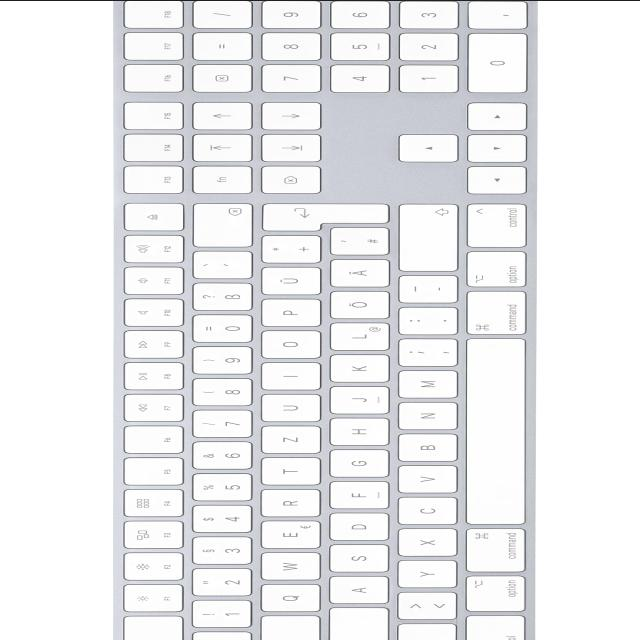0: (190, 314, 253, 342)
1: (189, 600, 251, 628)
2: (190, 567, 252, 596)
3: (190, 536, 252, 565)
4: (189, 504, 251, 532)
5: (190, 473, 252, 501)
6: (190, 441, 252, 469)
7: (190, 410, 252, 438)
8: (190, 378, 253, 406)
9: (189, 345, 253, 374)
a: (326, 576, 388, 604)
accent: (189, 251, 251, 279)
ae: (327, 259, 389, 287)
alt-left: (465, 574, 528, 612)
altgr-right: (463, 249, 527, 288)
b: (395, 433, 457, 461)
c: (394, 496, 457, 525)
caret: (189, 628, 250, 640)
comma: (396, 338, 458, 366)
d: (327, 513, 389, 541)
del: (190, 203, 253, 248)
e: (258, 520, 321, 548)
enter: (258, 203, 390, 231)
f: (326, 481, 388, 509)
g: (327, 449, 389, 477)
h: (327, 418, 389, 446)
hash: (328, 227, 390, 255)
i: (257, 362, 320, 390)
j: (327, 386, 389, 414)
k: (327, 354, 389, 382)
keyboard: (113, 0, 537, 640)
l: (327, 322, 389, 350)
less: (395, 591, 457, 620)
m: (395, 370, 457, 399)
minus: (397, 274, 458, 303)
n: (396, 400, 458, 430)
o: (258, 330, 321, 358)
oe: (327, 291, 389, 319)
p: (258, 299, 320, 327)
plus: (259, 235, 321, 263)
point: (397, 306, 458, 334)
q: (258, 583, 320, 612)
r: (258, 489, 320, 517)
s: (327, 544, 389, 572)
shift-left: (395, 623, 457, 640)
shift-lock: (326, 606, 388, 640)
shift-right: (396, 204, 458, 272)
space: (464, 336, 528, 527)
ss: (190, 283, 252, 311)
strg-left: (462, 614, 526, 640)
strg-right: (466, 202, 530, 246)
t: (258, 457, 320, 485)
tab: (257, 615, 319, 640)
u: (257, 394, 320, 422)
ue: (259, 267, 321, 295)
v: (394, 464, 458, 493)
w: (256, 552, 319, 581)
x: (395, 528, 457, 557)
y: (396, 559, 458, 588)
z: (258, 425, 320, 453)
